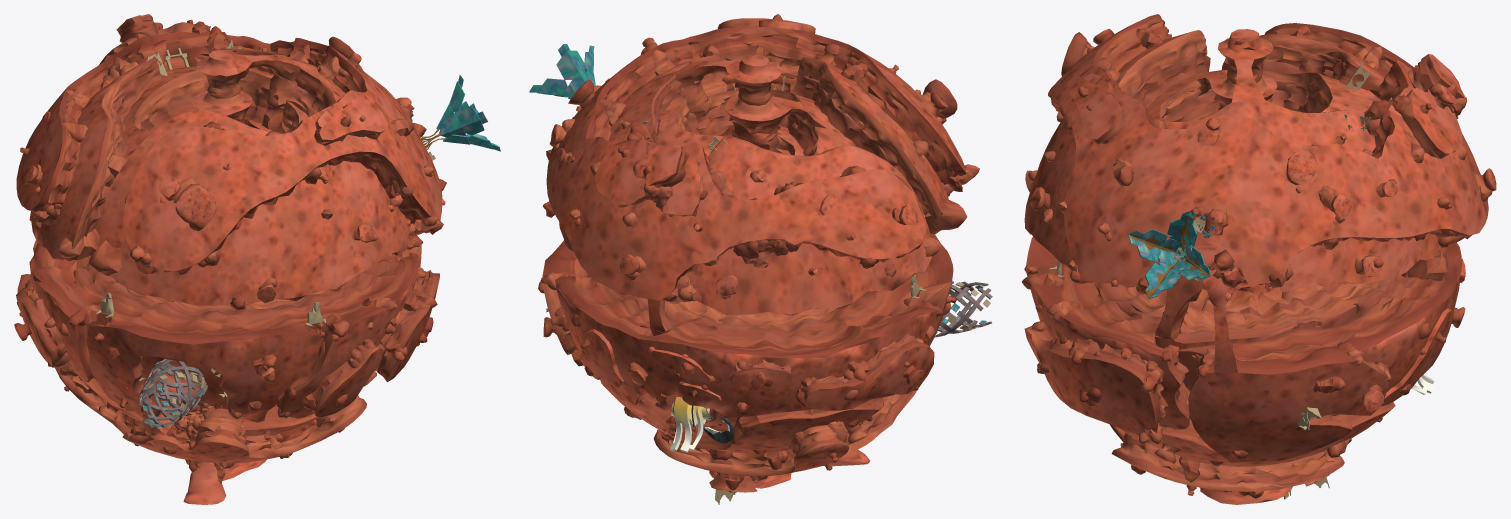
The model's file is CaveTwin.glb.
3 views of the same model, side by side, from view 1: azimuth 30°, elevation 25°; view 2: azimuth 150°, elevation 25°; view 3: azimuth 270°, elevation 25° (orthographic). The views are drawn at different scales.
Parts seen in each view (by area): view 1: CaveTwin; view 2: CaveTwin; view 3: CaveTwin.
Boxes of the visible parts, x1,y1,x2,y2 form: CaveTwin: [14, 14, 500, 504]; CaveTwin: [529, 14, 992, 504]; CaveTwin: [1022, 14, 1496, 504].
Size of the model in its own units: 2.2 by 2.05 by 1.92.
Materials: 1 (1 with a texture image).
